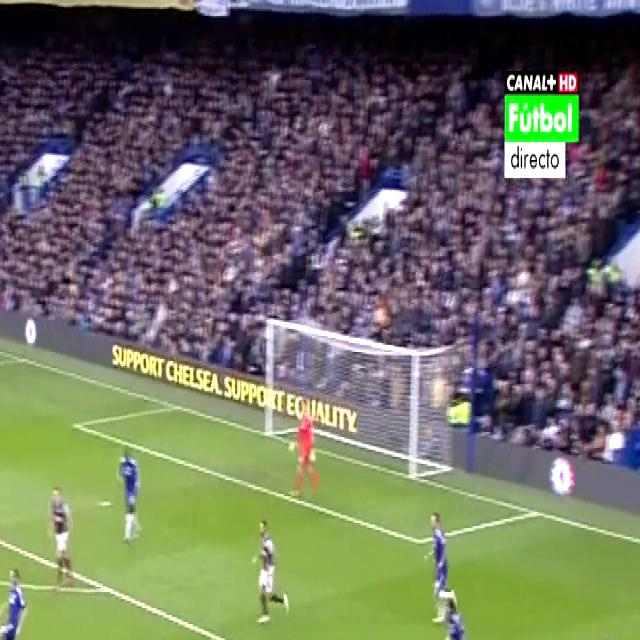goalkeeper: (284, 401, 321, 513)
soccer-player: (246, 503, 298, 635), (40, 474, 80, 594), (112, 433, 148, 551), (426, 496, 456, 626), (0, 551, 30, 640), (440, 579, 481, 640), (587, 622, 639, 640)
